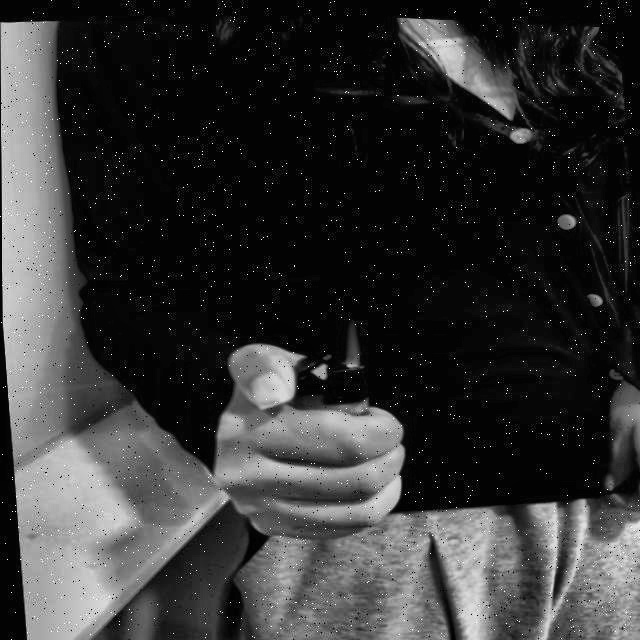Fire: (341, 303, 366, 365)
